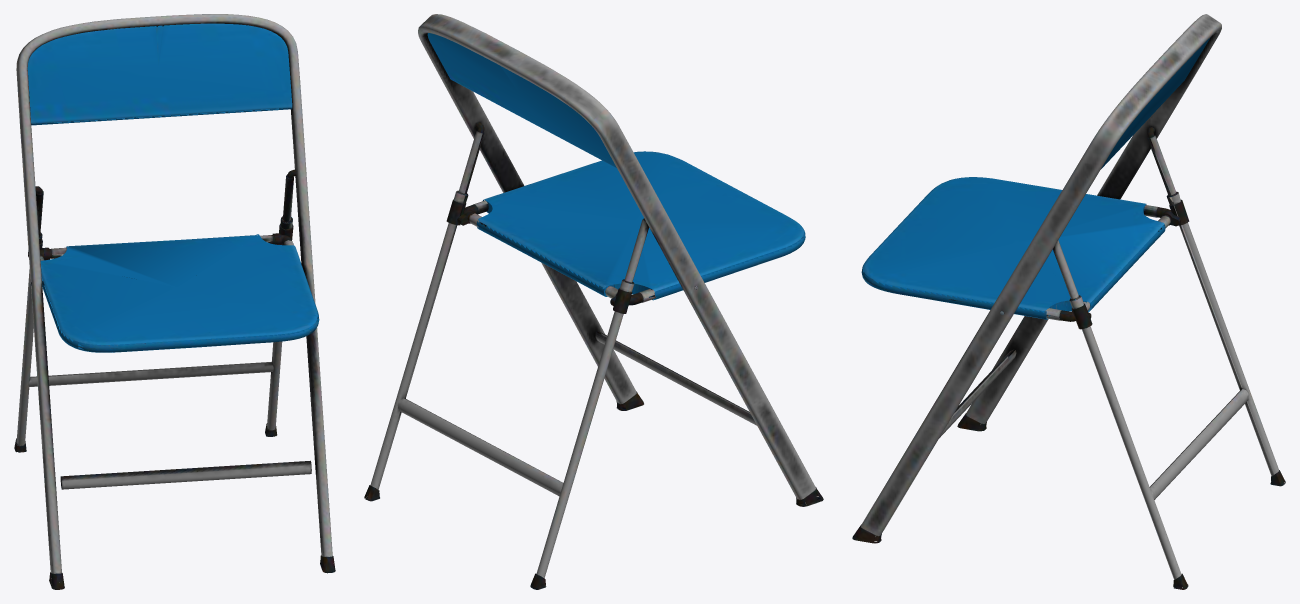
File: chair.glb
The picture shows the model from 3 angles, left to right: view 1: azimuth 30°, elevation 25°; view 2: azimuth 150°, elevation 25°; view 3: azimuth 270°, elevation 25°; orthographic projection. The views are drawn at different scales.
Parts seen in each view (by area): view 1: Object_4, Object_3, Object_5, Object_2; view 2: Object_4, Object_3, Object_5, Object_2; view 3: Object_4, Object_3, Object_5, Object_2.
Part boxes in pixels (x1,y1,x2,y2): Object_4: [14, 23, 335, 589]; Object_3: [16, 14, 332, 573]; Object_5: [16, 25, 334, 589]; Object_2: [23, 27, 334, 589]; Object_4: [364, 33, 823, 589]; Object_3: [418, 14, 815, 499]; Object_5: [364, 122, 822, 588]; Object_2: [364, 191, 823, 589]; Object_4: [853, 38, 1285, 589]; Object_3: [861, 14, 1221, 541]; Object_5: [853, 127, 1284, 588]; Object_2: [852, 192, 1285, 589].
Size of the model in its own units: 675 by 888 by 740.
1 material, 1 textured.
